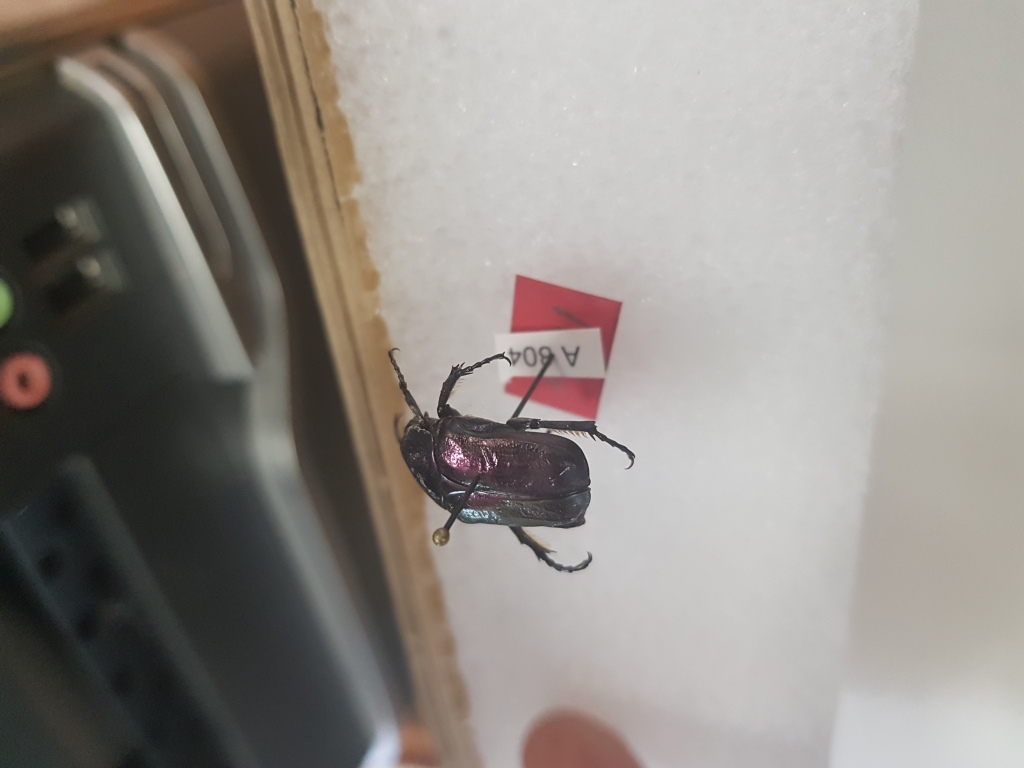Protaetia_besucheti: (367, 337, 642, 584)
